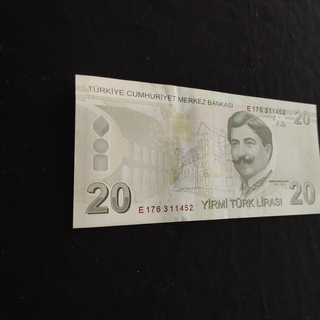20TLBack: (72, 73, 320, 229)
